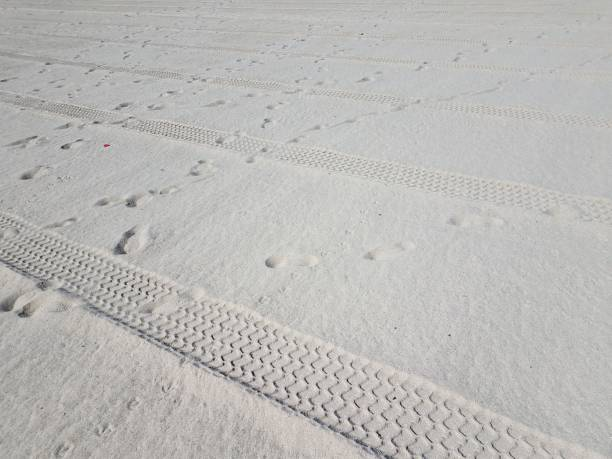human_footprint: (0, 279, 80, 317), (141, 287, 207, 313), (114, 225, 148, 254), (364, 242, 415, 260), (447, 212, 505, 227), (264, 255, 319, 268), (6, 135, 48, 147), (189, 159, 215, 176), (19, 165, 49, 179), (124, 192, 151, 207), (44, 217, 79, 228), (60, 138, 84, 149), (55, 121, 85, 129), (114, 102, 131, 110), (147, 103, 164, 110)
